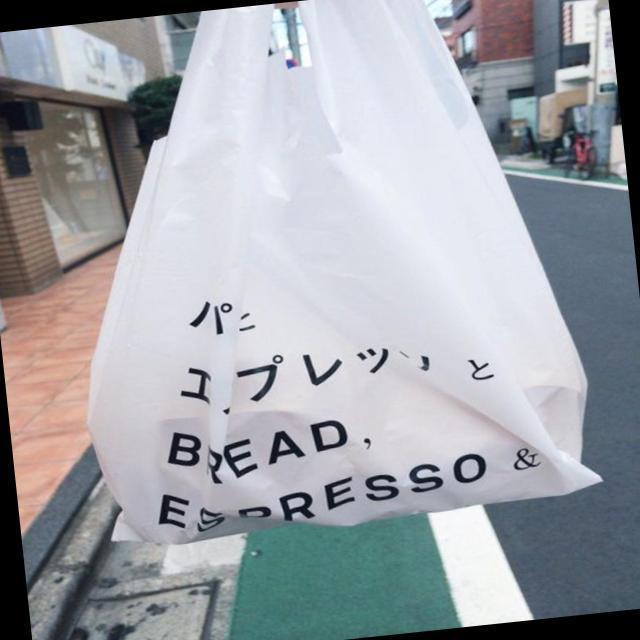Plastic_Bag: (56, 0, 592, 550)
